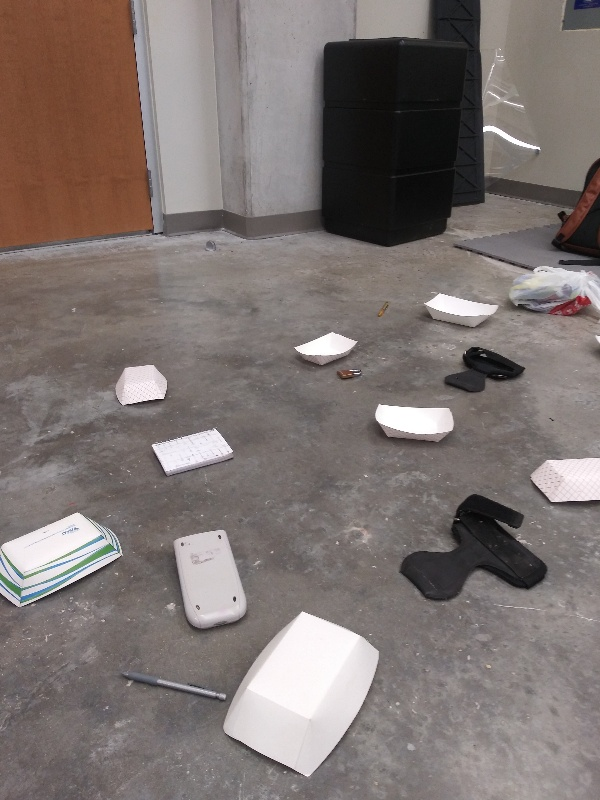plate: (218, 608, 386, 784), (1, 507, 130, 614), (522, 451, 600, 509), (371, 399, 459, 448), (420, 288, 505, 332), (287, 327, 364, 369), (110, 361, 172, 413)
